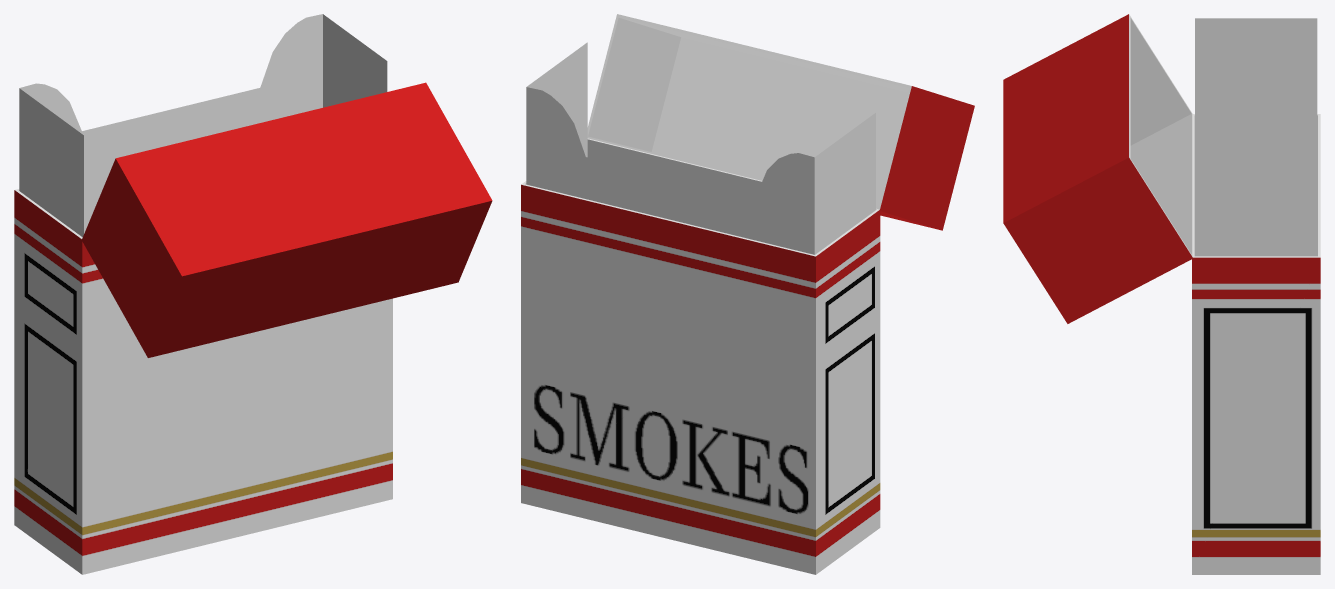
The model's file is Cigarette_Box.fbx.
3 views of the same model, side by side, from view 1: azimuth 30°, elevation 25°; view 2: azimuth 150°, elevation 25°; view 3: azimuth 270°, elevation 25° (orthographic). The views are drawn at different scales.
Visible parts, largest first — view 1: pPlane3; view 2: pPlane3; view 3: pPlane3.
Part boxes in pixels (x1=…): pPlane3: x1=14, y1=14, x2=492, y2=574; pPlane3: x1=521, y1=14, x2=974, y2=574; pPlane3: x1=1003, y1=14, x2=1320, y2=574.
Bounding box in the file's own units: 35.73 × 48.48 × 33.39.
Materials: 1 (1 with a texture image).
